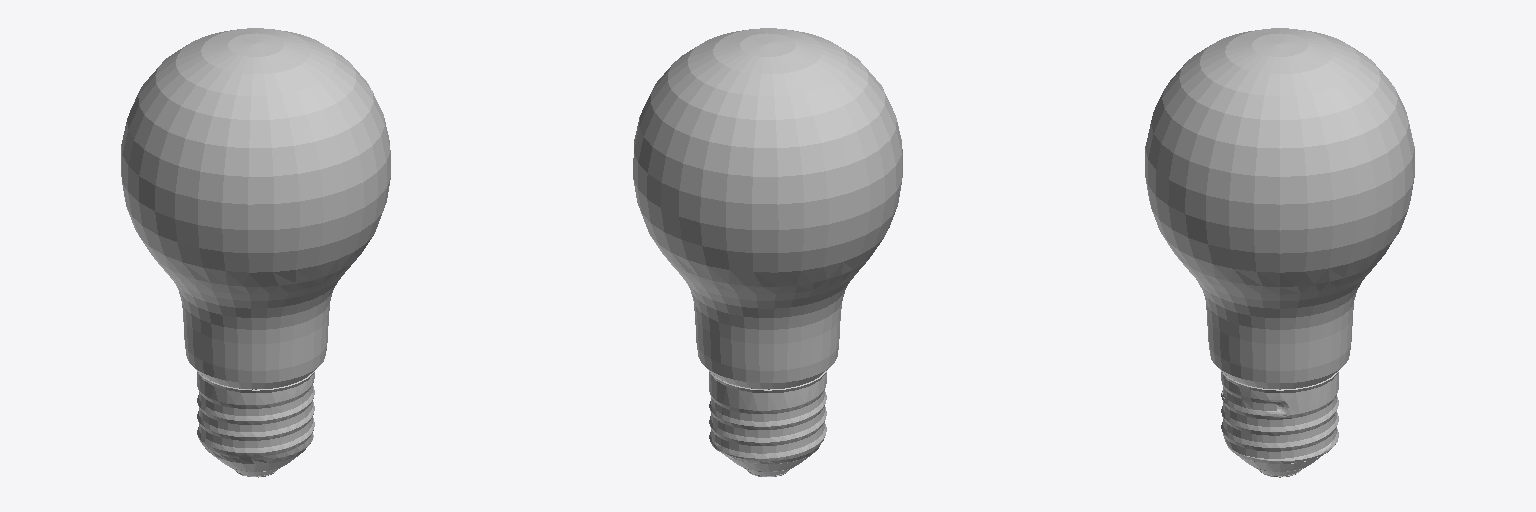
File: bulb2.obj
The picture shows the model from 3 angles: view 1: azimuth 30°, elevation 25°; view 2: azimuth 150°, elevation 25°; view 3: azimuth 270°, elevation 25°; orthographic projection.
Parts seen in each view (by area): view 1: bulb glass, bulb metal; view 2: bulb glass, bulb metal; view 3: bulb glass, bulb metal.
Part boxes in pixels (x1,y1,x2,y2): bulb glass: (121, 28, 390, 389); bulb metal: (197, 371, 314, 477); bulb glass: (633, 28, 902, 389); bulb metal: (709, 371, 826, 476); bulb glass: (1145, 28, 1414, 389); bulb metal: (1221, 371, 1338, 477).
Bounding box in the file's own units: 61.94 × 107 × 61.94.